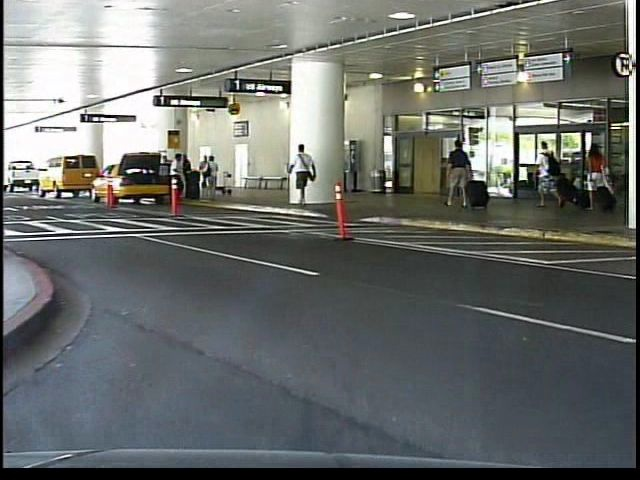person: (532, 138, 569, 217), (583, 133, 615, 220), (291, 140, 322, 211), (447, 135, 476, 210)
